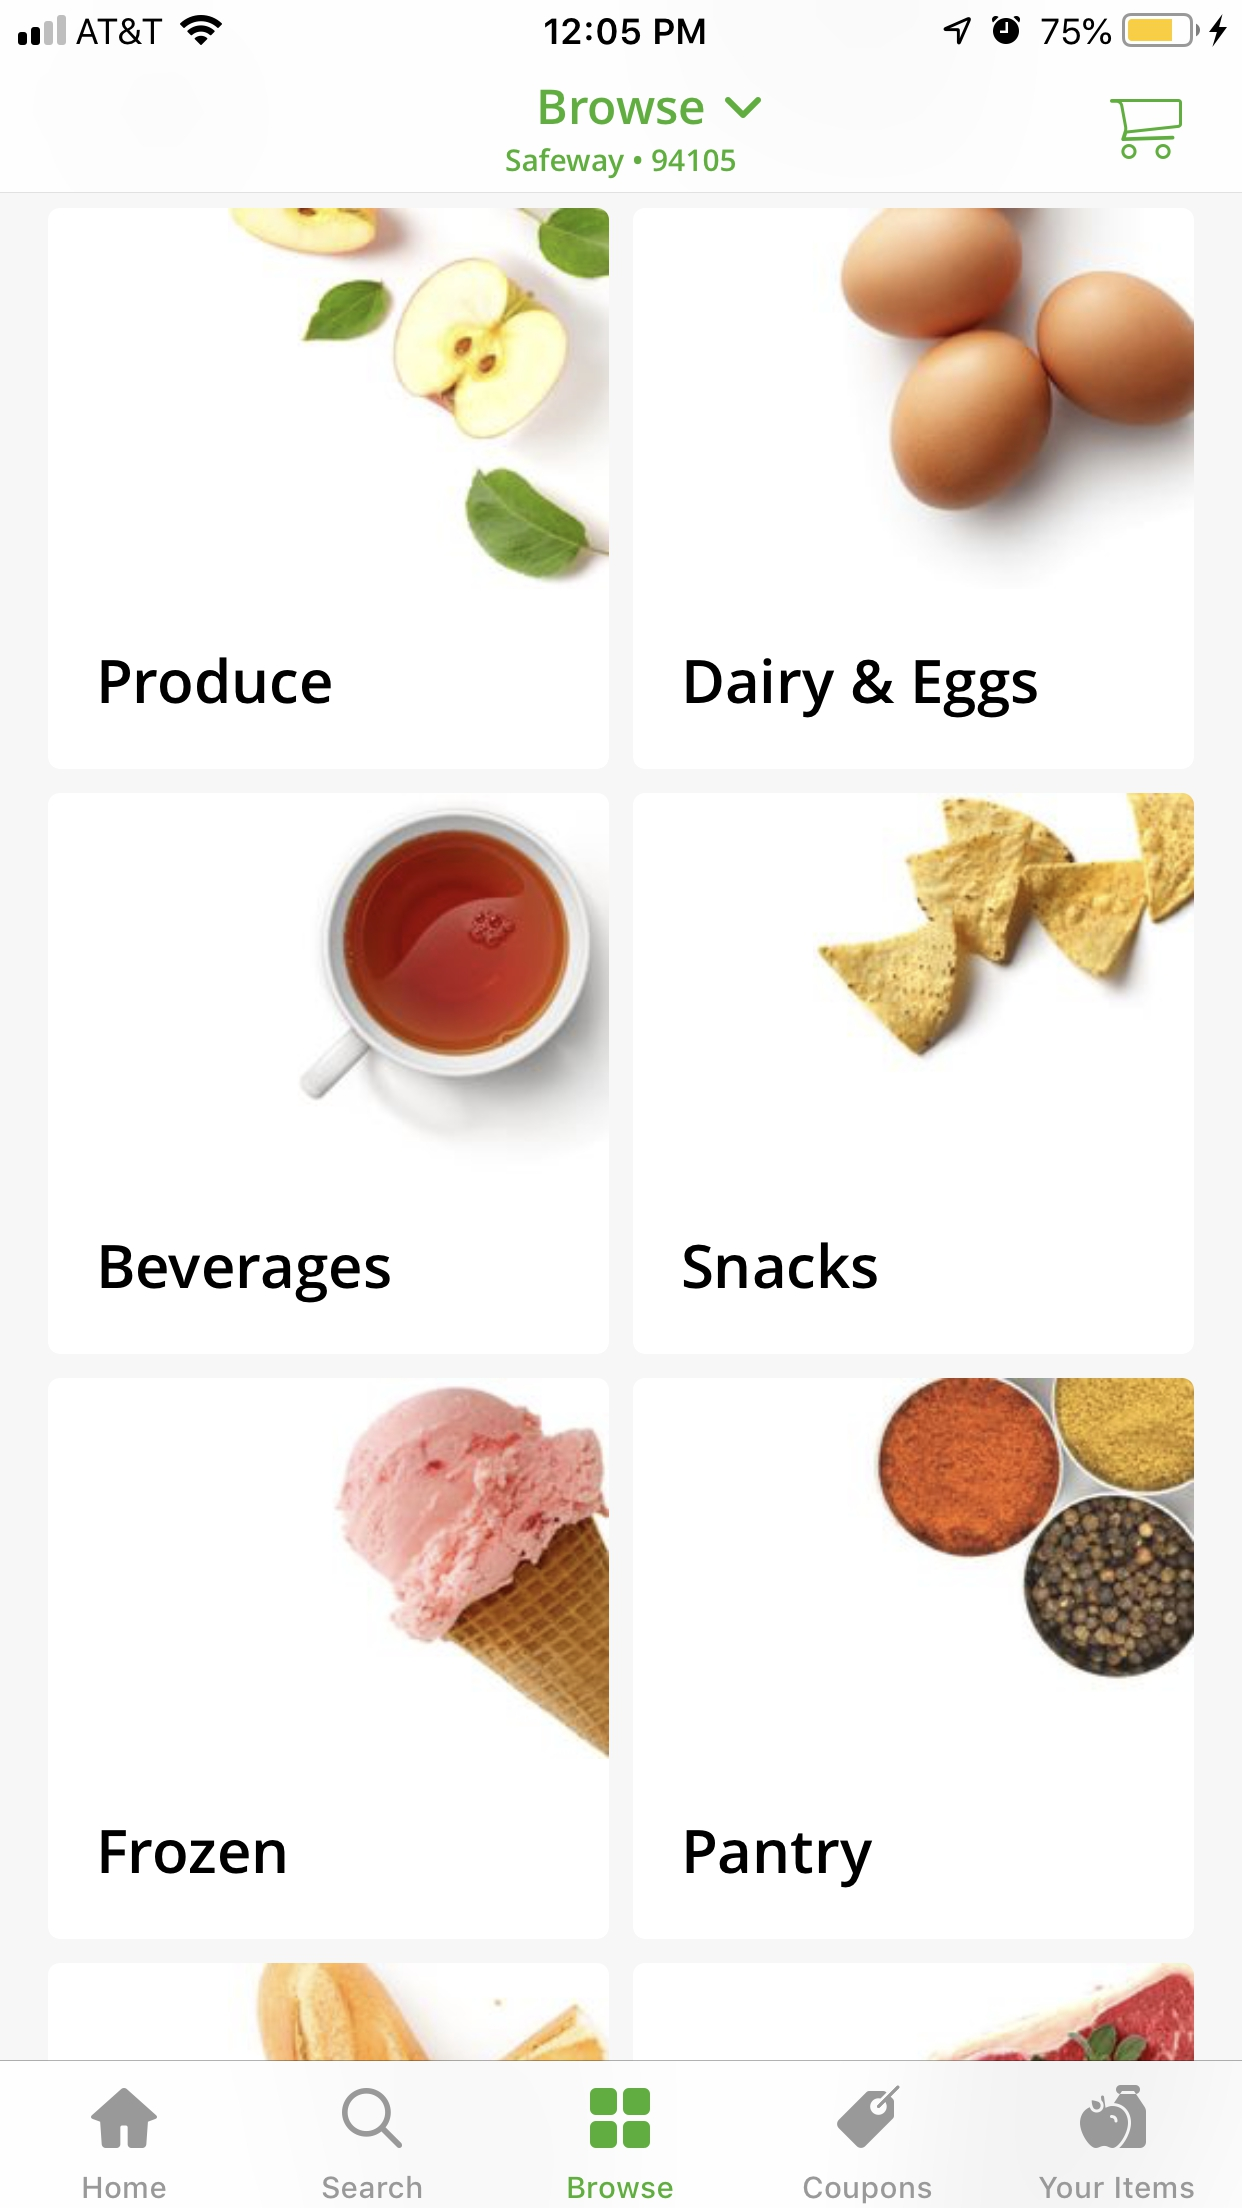Icon: (1109, 99, 1183, 161), (91, 2087, 159, 2149), (837, 2085, 901, 2149), (590, 2087, 651, 2149), (343, 2088, 403, 2149), (725, 97, 763, 120)
Image: (227, 208, 610, 588), (839, 209, 1193, 513), (335, 1385, 610, 1761), (817, 795, 1193, 1059), (875, 1378, 1195, 1679), (299, 807, 610, 1102), (232, 1962, 611, 2059), (924, 1962, 1195, 2059), (1080, 2084, 1146, 2149)
Text: (685, 657, 1037, 719), (102, 1244, 391, 1304), (102, 657, 334, 707), (687, 1830, 870, 1887), (684, 1242, 878, 1291), (102, 1829, 287, 1874), (507, 149, 735, 180), (540, 89, 705, 126), (804, 2175, 933, 2203), (1039, 2176, 1195, 2199), (321, 2175, 422, 2199), (569, 2176, 673, 2199), (83, 2176, 167, 2199)
UpperTaskBar: (2, 2, 1242, 49)
